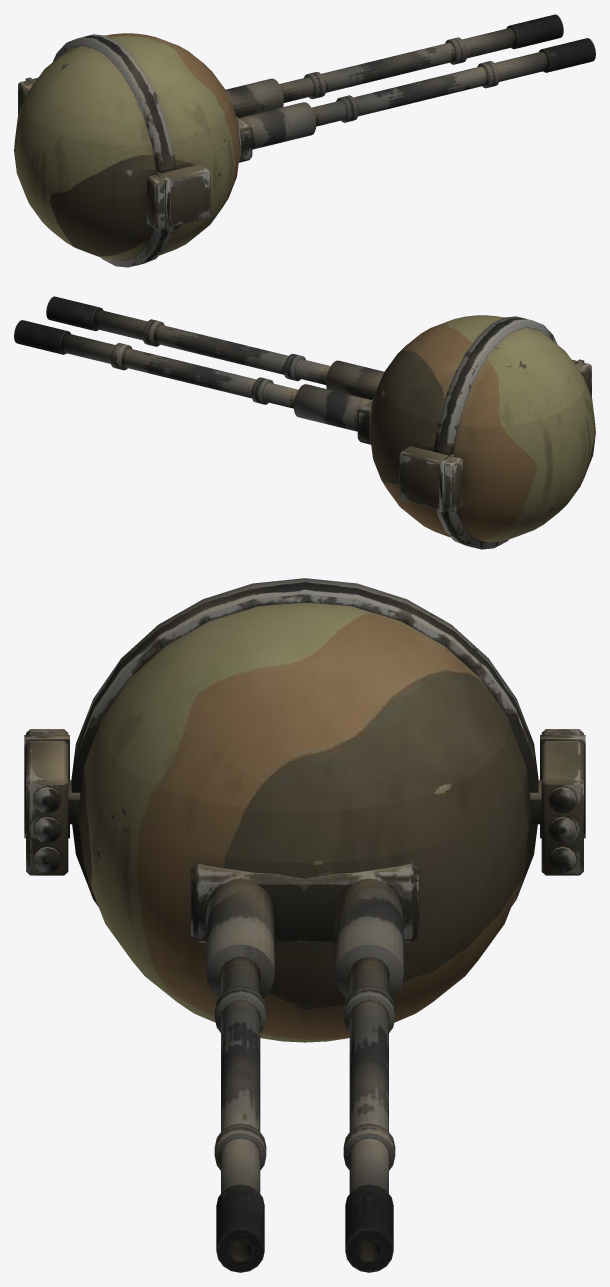
File: turret_kit_tail_ball_t1_steppe.glb
3 renders of one model, top to bottom at view 1: azimuth 30°, elevation 25°; view 2: azimuth 150°, elevation 25°; view 3: azimuth 270°, elevation 25°, orthographic. The views are drawn at different scales.
Parts seen in each view (by area): view 1: turret_tail_ball_t1, pods; view 2: turret_tail_ball_t1, pods; view 3: turret_tail_ball_t1, pods.
Boxes of the visible parts, box(x1,y1,x2,y2) form: turret_tail_ball_t1: box(14, 14, 595, 267); pods: box(18, 77, 210, 230); turret_tail_ball_t1: box(14, 296, 595, 549); pods: box(399, 359, 591, 512); turret_tail_ball_t1: box(71, 578, 538, 1272); pods: box(24, 729, 585, 875).
Size of the model in its own units: 1.66 by 0.62 by 0.7402.
Materials: 2 (2 with a texture image).
